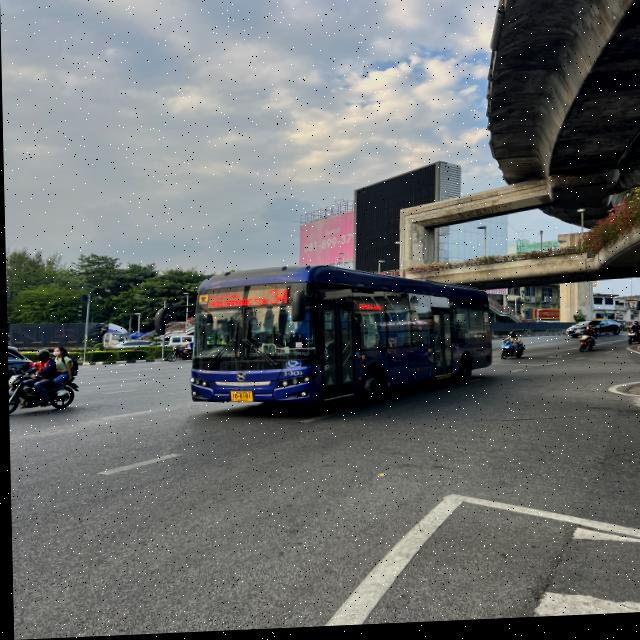Bus-Line-Number: (266, 287, 290, 308)
Destination-Sign-Normal: (205, 291, 265, 311)
TSB-Bus: (186, 264, 489, 416)
